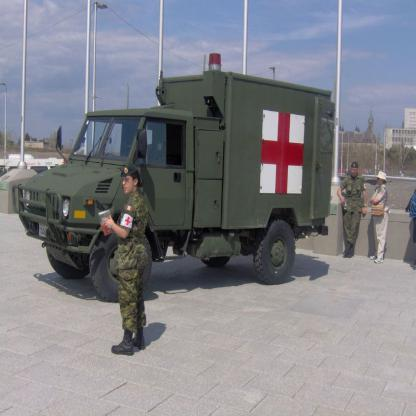Truck: (12, 53, 336, 301)
